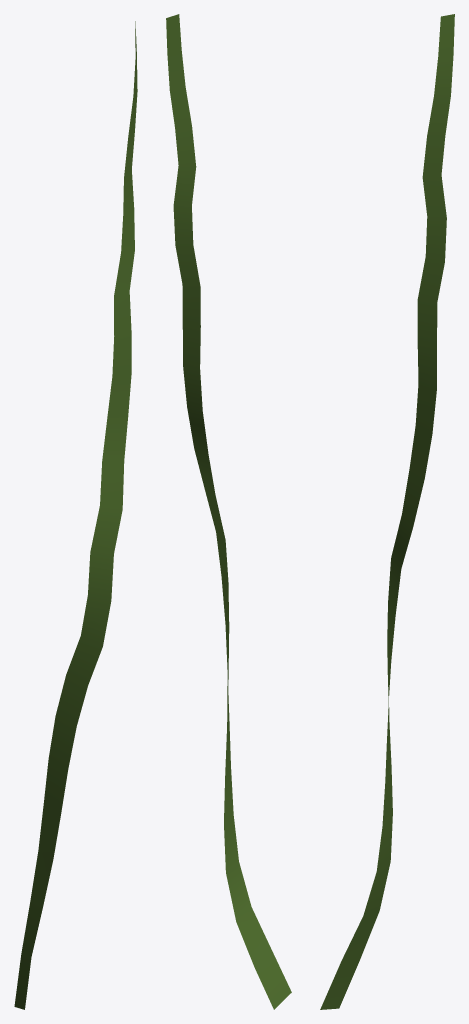
Rendered from plant_swamp_kelp_long_solo_Q.fbx.
3 renders of one model, left to right at view 1: azimuth 30°, elevation 25°; view 2: azimuth 150°, elevation 25°; view 3: azimuth 330°, elevation 25°, orthographic. The views are drawn at different scales.
Visible parts, largest first — view 1: plant_swamp_kelp_long_solo_Q; view 2: plant_swamp_kelp_long_solo_Q; view 3: plant_swamp_kelp_long_solo_Q.
Boxes of the visible parts, x1,y1,x2,y2 form: plant_swamp_kelp_long_solo_Q: (14, 21, 137, 1009); plant_swamp_kelp_long_solo_Q: (166, 14, 291, 1009); plant_swamp_kelp_long_solo_Q: (320, 14, 454, 1009).
Bounding box in the file's own units: 31.93 × 249 × 15.93.
